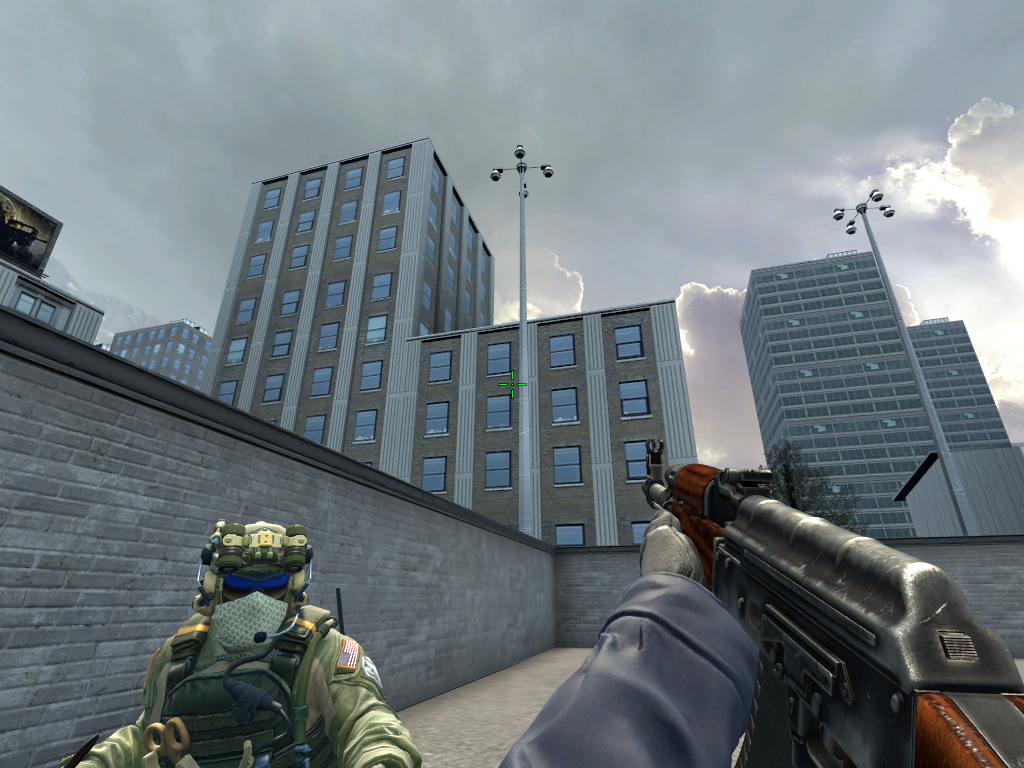ct head: (219, 544, 286, 649)
